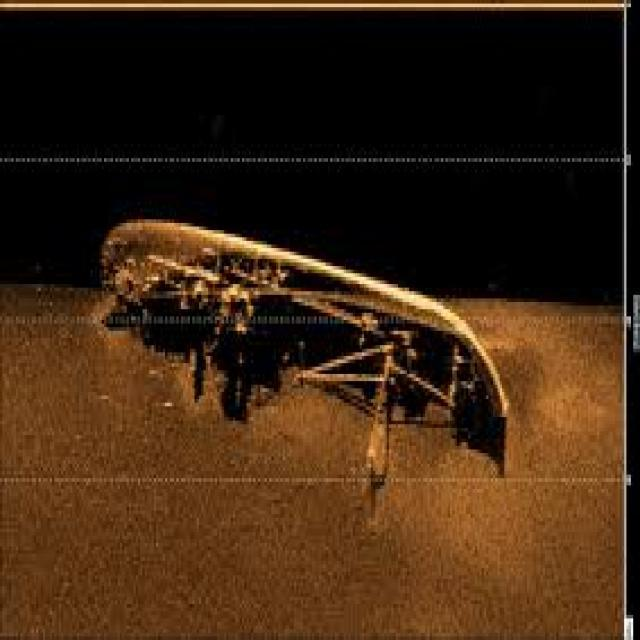shipwreck: (97, 205, 511, 464)
